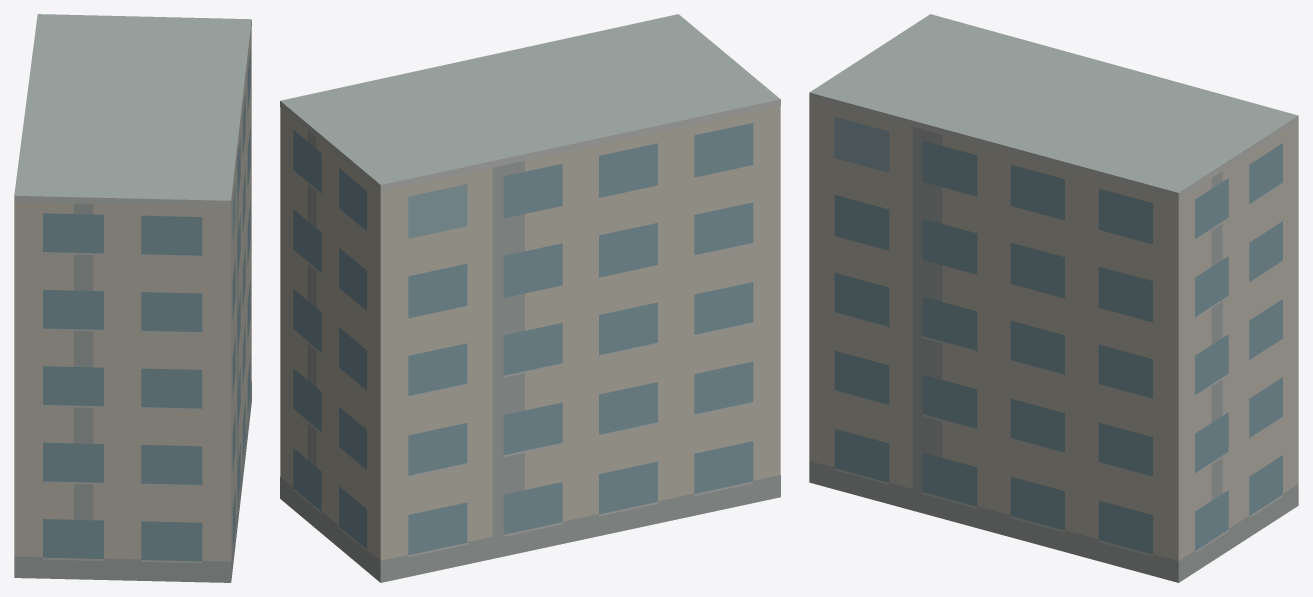
Rendered from survey-upis-32893497.glb.
The picture shows the model from 3 angles, left to right: view 1: azimuth 30°, elevation 25°; view 2: azimuth 150°, elevation 25°; view 3: azimuth 270°, elevation 25°; orthographic projection. The views are drawn at different scales.
Parts seen in each view (by area): view 1: survey-upis-32893497.tmp; view 2: survey-upis-32893497.tmp; view 3: survey-upis-32893497.tmp.
Part boxes in pixels (left/top/right/bottom): survey-upis-32893497.tmp: left=14, top=14, right=251, bottom=582; survey-upis-32893497.tmp: left=280, top=14, right=780, bottom=582; survey-upis-32893497.tmp: left=809, top=14, right=1298, bottom=582.
Size of the model in its own units: 14.37 by 14.6 by 16.61.
